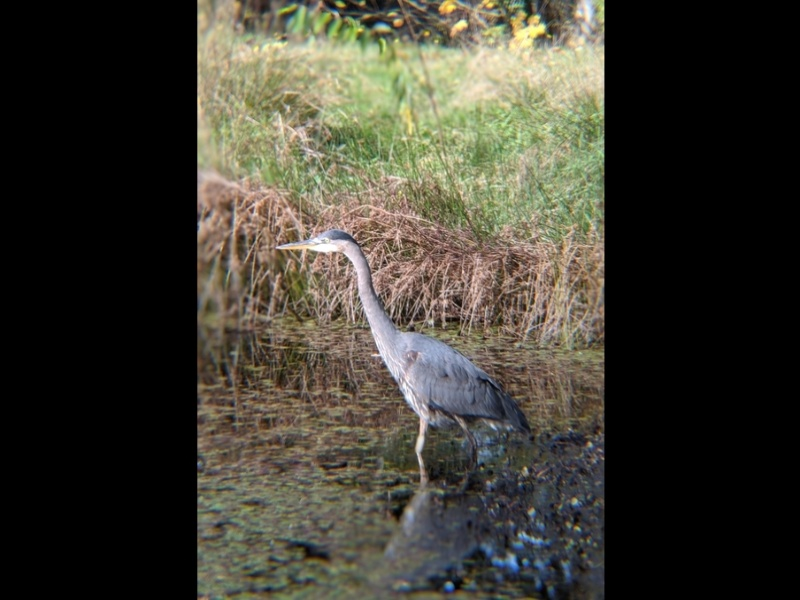heron: (276, 230, 541, 489)
